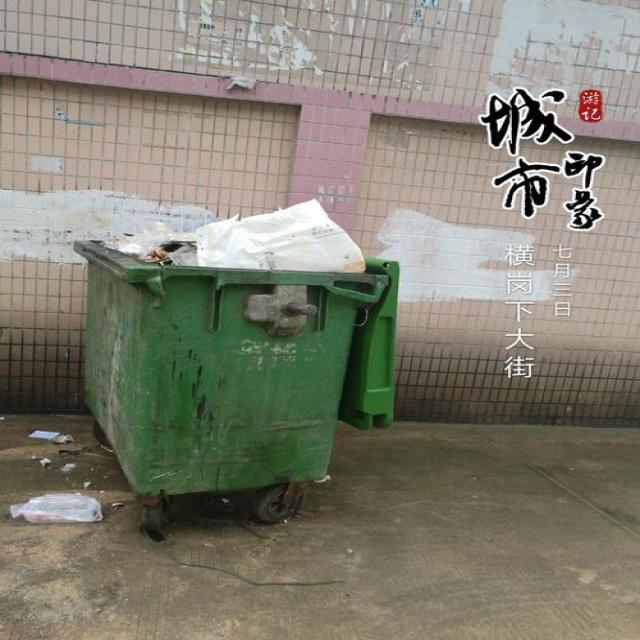garbage: (8, 428, 106, 521)
overflow: (70, 200, 400, 496)
